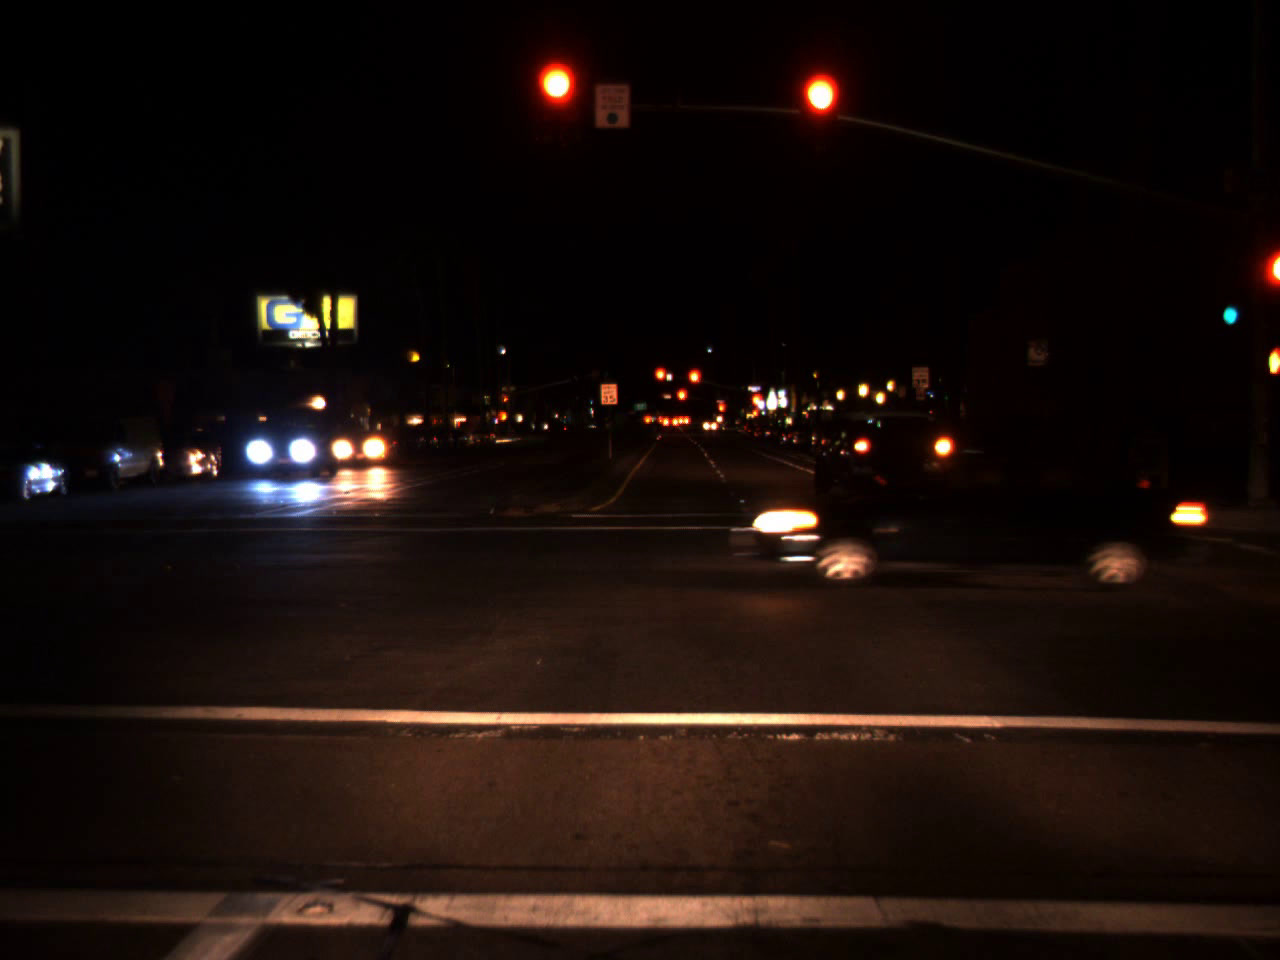stop: (538, 63, 577, 141), (802, 74, 838, 152), (653, 365, 668, 397), (686, 368, 702, 397), (675, 387, 688, 414), (749, 392, 762, 419), (500, 392, 510, 413), (717, 402, 724, 423)
